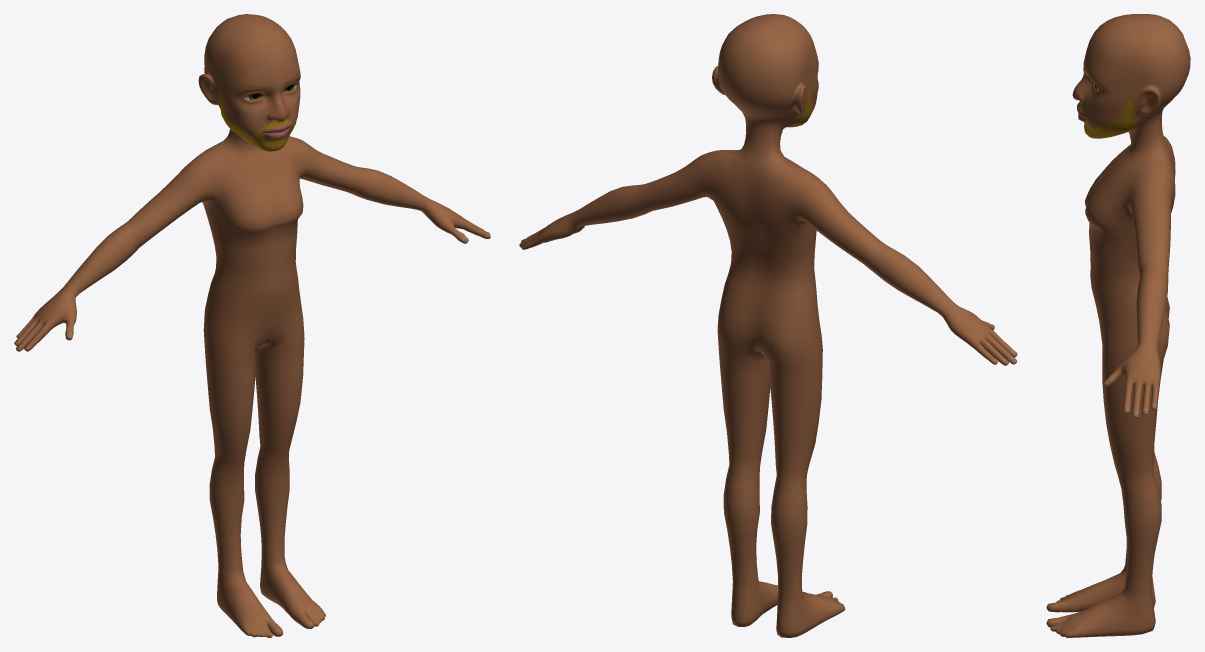
The model's file is frame_0036.glb.
The picture shows the model from 3 angles, left to right: view 1: azimuth 30°, elevation 25°; view 2: azimuth 150°, elevation 25°; view 3: azimuth 270°, elevation 25°; orthographic projection. The views are drawn at different scales.
Visible parts, largest first — view 1: frame_0036_head_geo; view 2: frame_0036_head_geo; view 3: frame_0036_head_geo.
Boxes of the visible parts, x1=… form: frame_0036_head_geo: x1=14, y1=14, x2=490, y2=637; frame_0036_head_geo: x1=519, y1=14, x2=1017, y2=637; frame_0036_head_geo: x1=1046, y1=14, x2=1190, y2=637.
Size of the model in its own units: 1.28 by 1.5 by 0.3253.
3 materials, 3 textured.
